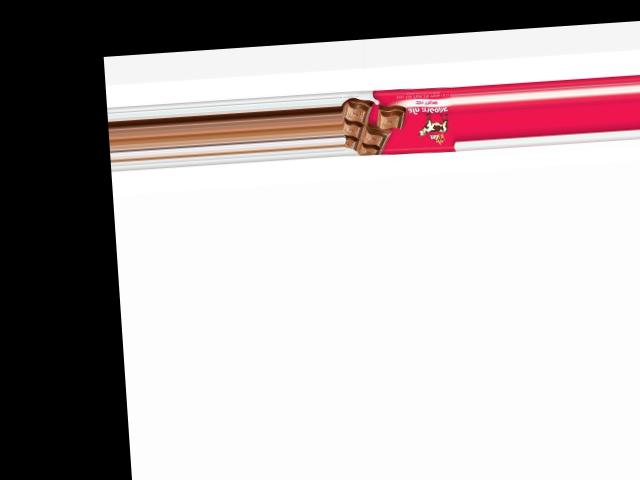chocolate: (341, 84, 457, 156)
